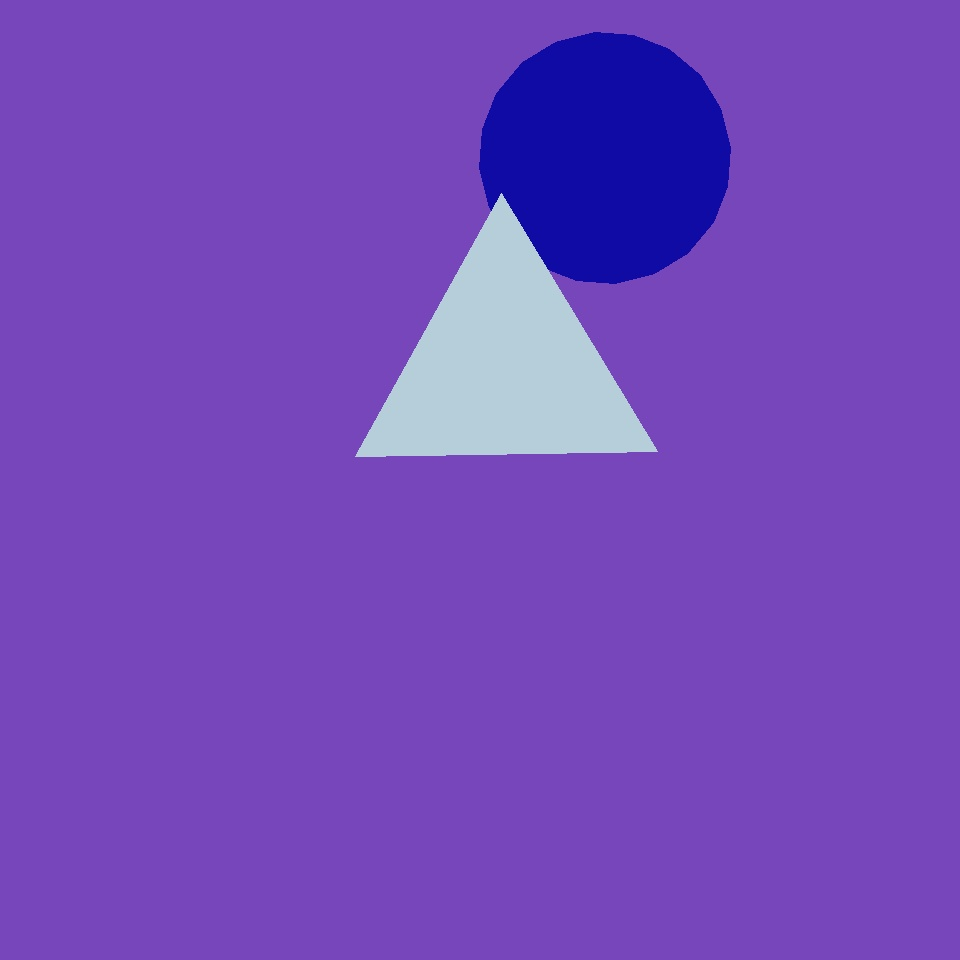circle: (447, 444, 724, 739), (354, 235, 656, 498), (379, 261, 485, 361)
triangle: (480, 32, 730, 284), (560, 542, 761, 744), (479, 602, 608, 731)
